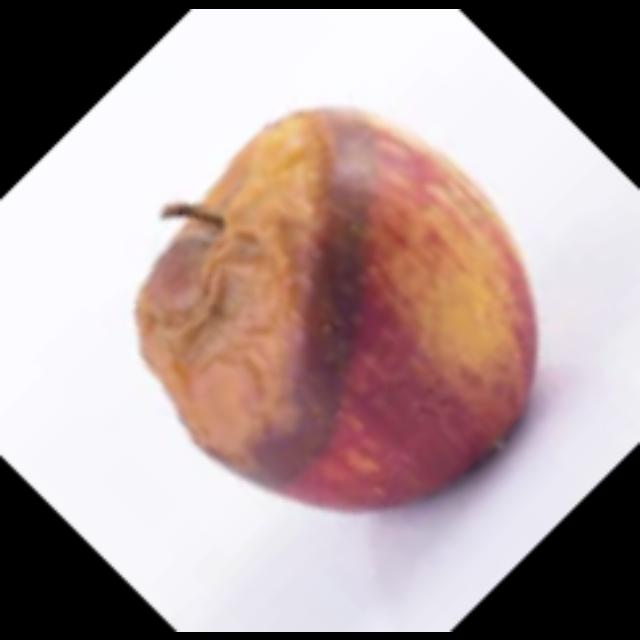Apel Tidak Segar: (141, 114, 541, 512)
